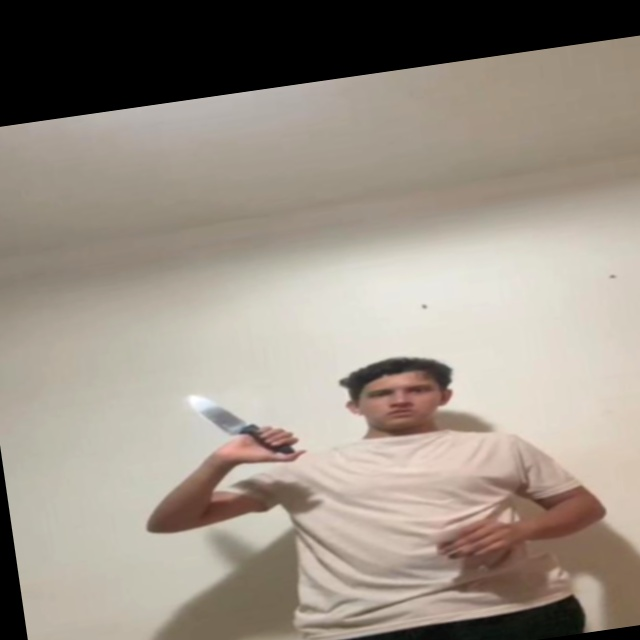Sharp-Object: (185, 389, 249, 436)
